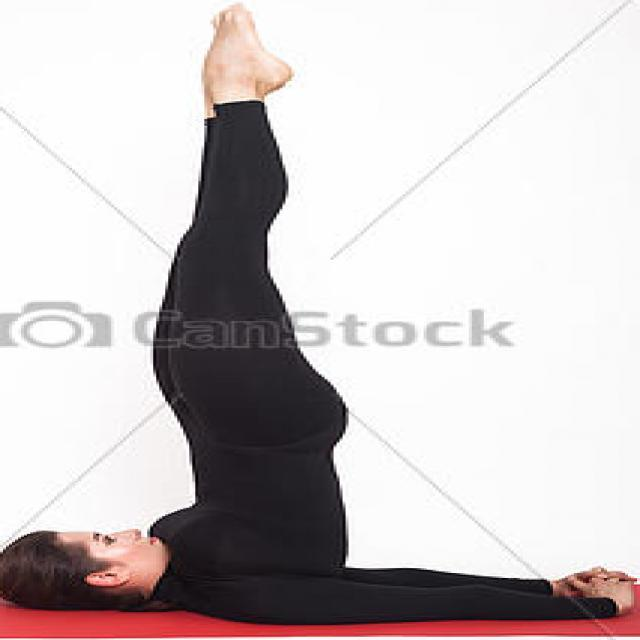yoga-pose shoulderstand: (0, 7, 631, 624)
